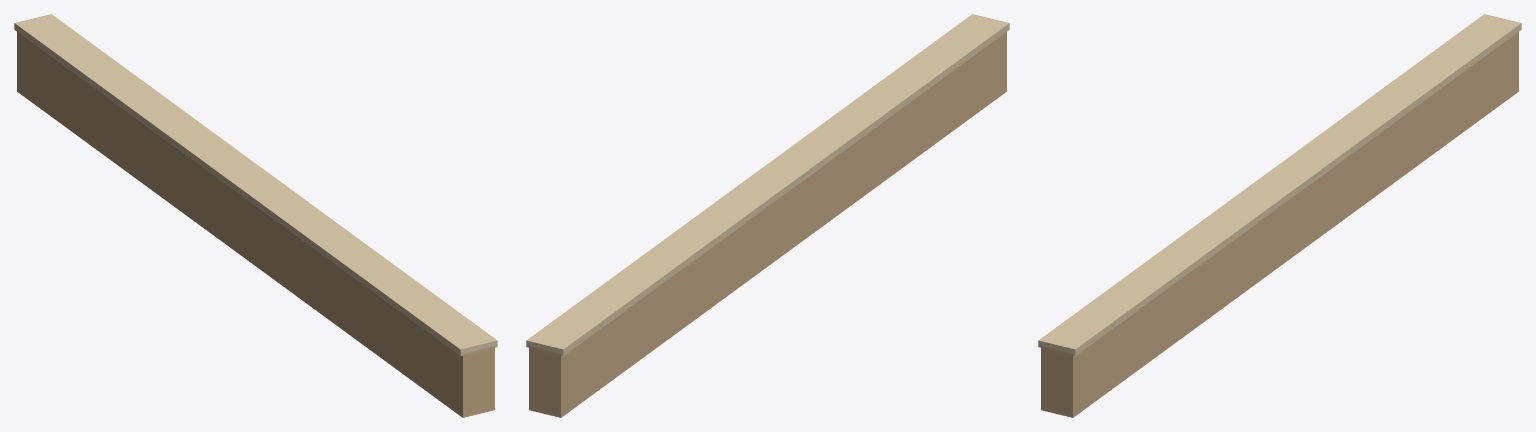
File: bridge_rail.glb
3 views of the same model, side by side, from view 1: azimuth 30°, elevation 25°; view 2: azimuth 150°, elevation 25°; view 3: azimuth 330°, elevation 25° (orthographic).
Visible parts, largest first — view 1: bridge_rail; view 2: bridge_rail; view 3: bridge_rail.
Boxes of the visible parts, x1=… form: bridge_rail: x1=14, y1=14, x2=497, y2=417; bridge_rail: x1=526, y1=14, x2=1009, y2=417; bridge_rail: x1=1038, y1=14, x2=1521, y2=417.
Size of the model in its own units: 0.115 by 0.205 by 2.4.
